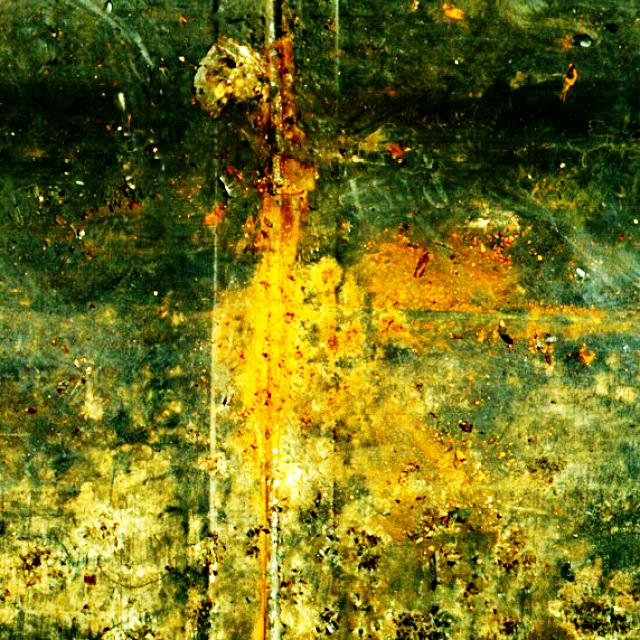Corrosion: (217, 176, 310, 640), (361, 232, 511, 342), (194, 36, 301, 141), (311, 259, 362, 361), (528, 306, 603, 365), (302, 362, 375, 421), (280, 158, 318, 190), (338, 271, 364, 315), (562, 65, 578, 100), (577, 345, 597, 365), (206, 208, 226, 226), (442, 4, 462, 18), (389, 143, 404, 159)
